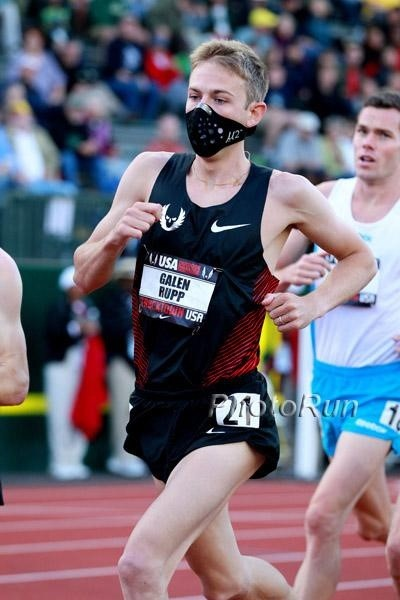face_no_mask: (351, 93, 400, 180)
face_with_mask: (181, 36, 268, 165)
